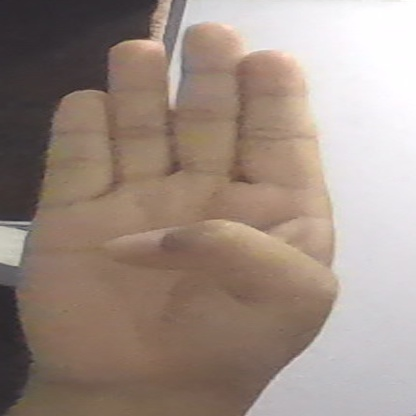B: (19, 23, 336, 392)
